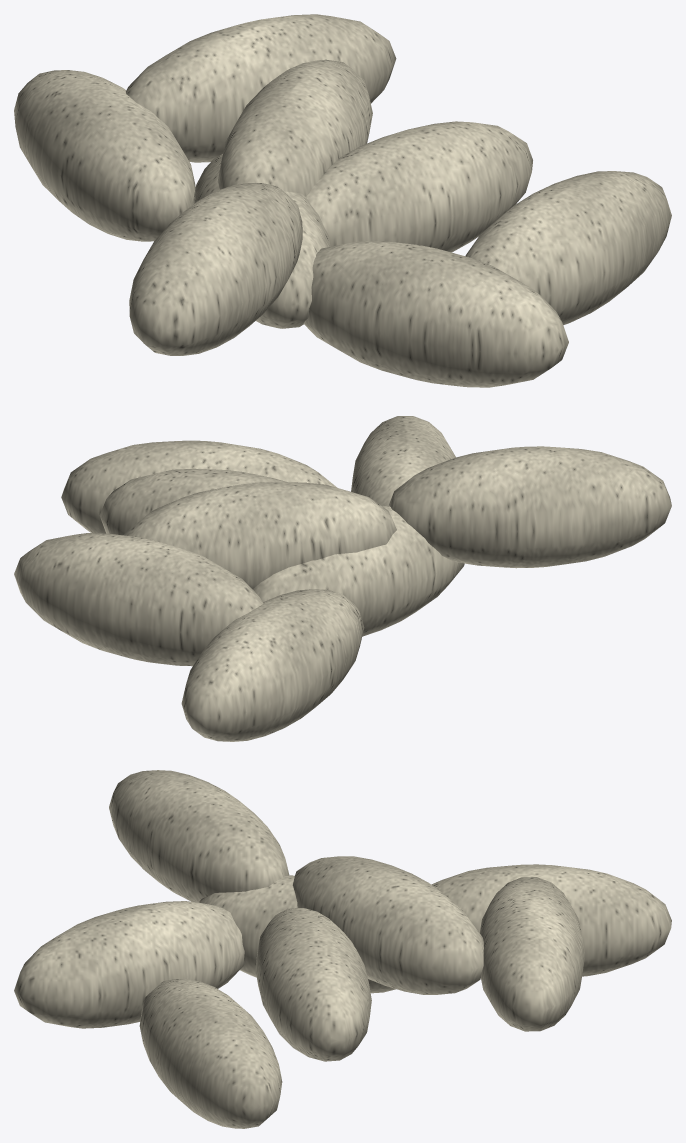
File: food-02-half.glb
3 views of the same model, one above another, from view 1: azimuth 30°, elevation 25°; view 2: azimuth 150°, elevation 25°; view 3: azimuth 270°, elevation 25° (orthographic). The views are drawn at different scales.
Parts seen in each view (by area): view 1: Food; view 2: Food; view 3: Food.
Part boxes in pixels (box(x1,y1,x2,y2)): Food: box(14, 14, 671, 387); Food: box(14, 416, 671, 741); Food: box(14, 770, 671, 1128).
Size of the model in its own units: 0.2738 by 0.0867 by 0.3036.
1 material, 1 textured.
